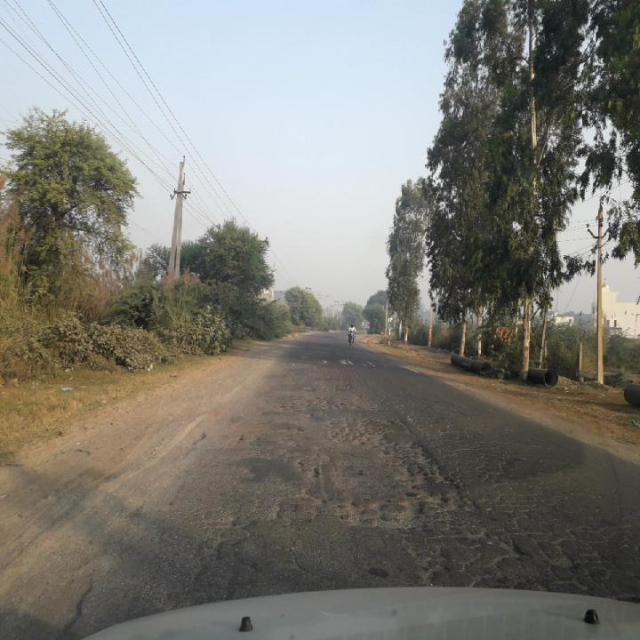Surface Erosion: (126, 308, 543, 589)
